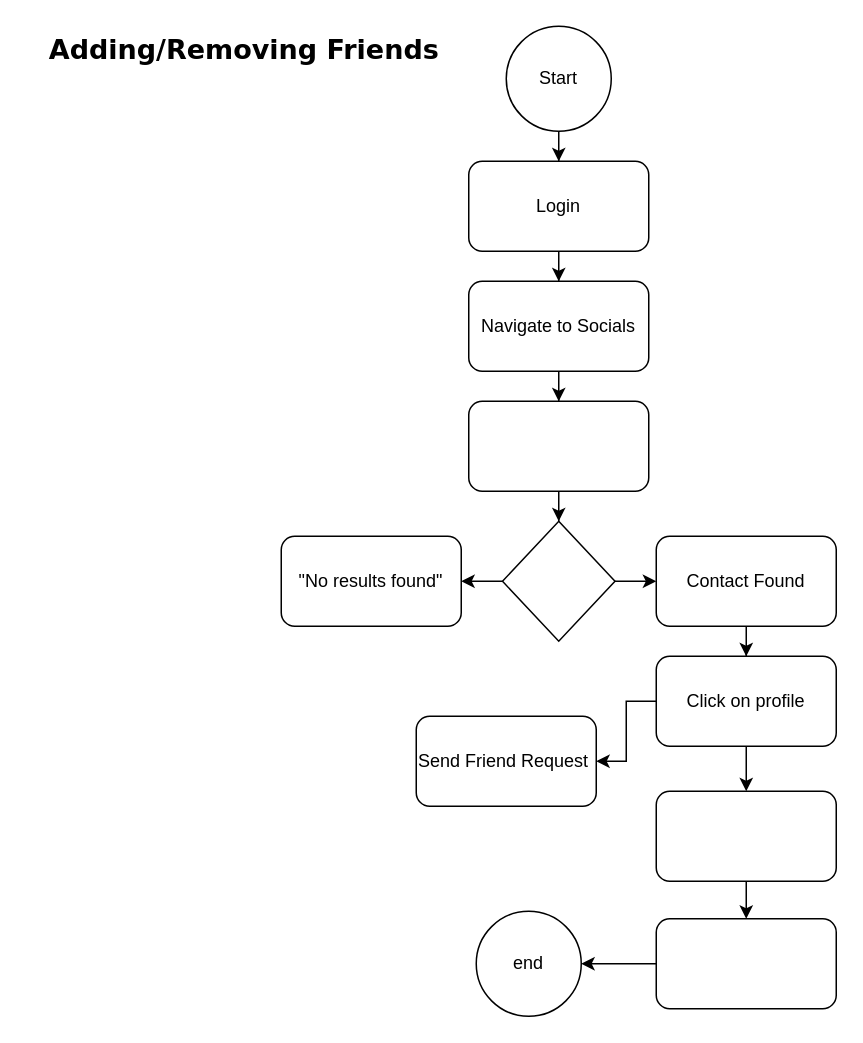
Some shapes in this 863 by 1043 pixel diagram are drawn without their labels. The box of each missing label's shape, as (x1, y1, x2, y2) in pixels:
Remove Friend Button: (655, 790, 836, 881)
Results Found?: (501, 520, 615, 641)
Search for Spy: (467, 400, 649, 491)
Update Contact List: (655, 917, 836, 1009)
